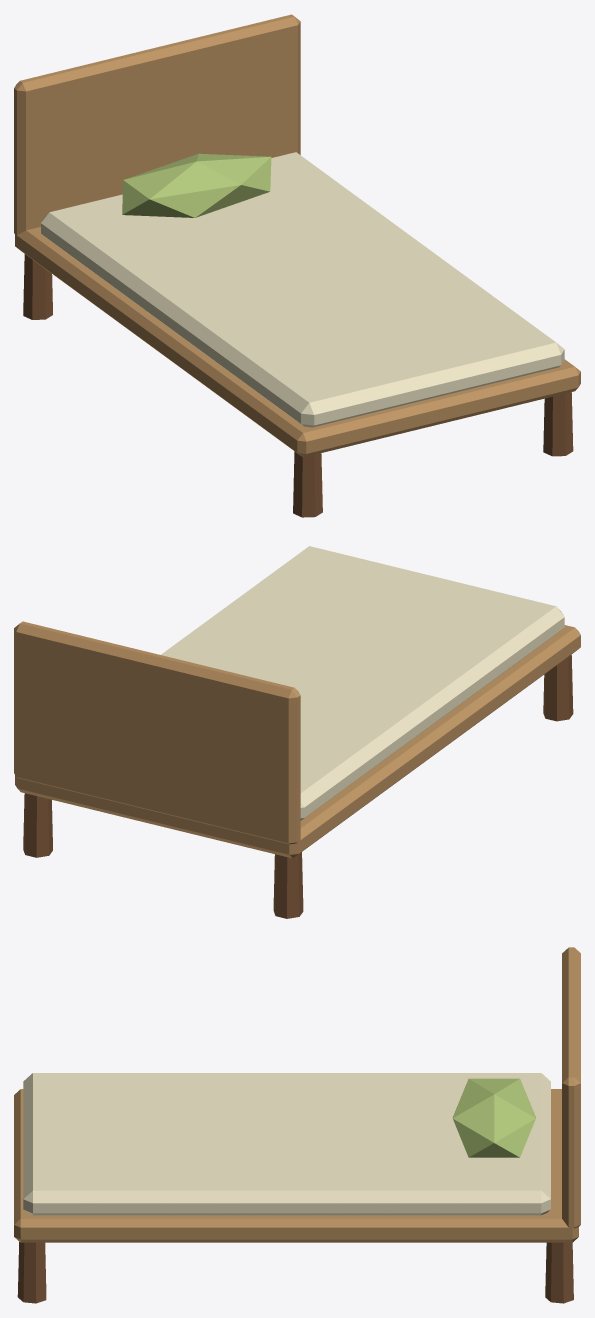
The model's file is CC_SingleBed.fbx.
The picture shows the model from 3 angles, top to bottom: view 1: azimuth 30°, elevation 25°; view 2: azimuth 150°, elevation 25°; view 3: azimuth 270°, elevation 25°; orthographic projection. The views are drawn at different scales.
Parts seen in each view (by area): view 1: Mattress, Headboard, Bed base, Pillow.001, Bed leg, Bed leg.002, Bed leg.001; view 2: Mattress, Headboard, Bed base, Bed leg.001, Bed leg.003, Bed leg; view 3: Mattress, Bed base, Pillow.001, Headboard, Bed leg.003, Bed leg.002.
Part boxes in pixels (x1,y1,x2,y2): Mattress: (41,152,564,427); Headboard: (14,14,300,234); Bed base: (15,227,580,457); Pillow.001: (122,153,271,217); Bed leg: (293,451,322,517); Bed leg.002: (543,392,573,456); Bed leg.001: (23,254,52,319); Mattress: (161,546,564,820); Headboard: (14,621,300,844); Bed base: (15,625,580,858); Bed leg.001: (273,852,303,918); Bed leg.003: (23,793,52,857); Bed leg: (543,655,573,721); Mattress: (23,1073,550,1215); Bed base: (14,1089,578,1242); Pillow.001: (452,1078,535,1157); Headboard: (562,947,580,1228); Bed leg.003: (545,1242,573,1303); Bed leg.002: (17,1242,46,1303).
Size of the model in its own units: 1.7 by 1.32 by 3.01.
